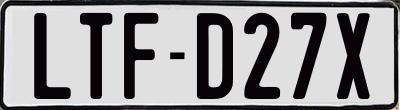2: (242, 10, 280, 101)
7: (288, 13, 326, 100)
D: (196, 13, 233, 101)
F: (123, 11, 162, 101)
L: (31, 12, 74, 102)
T: (79, 10, 116, 99)
X: (335, 12, 371, 98)
